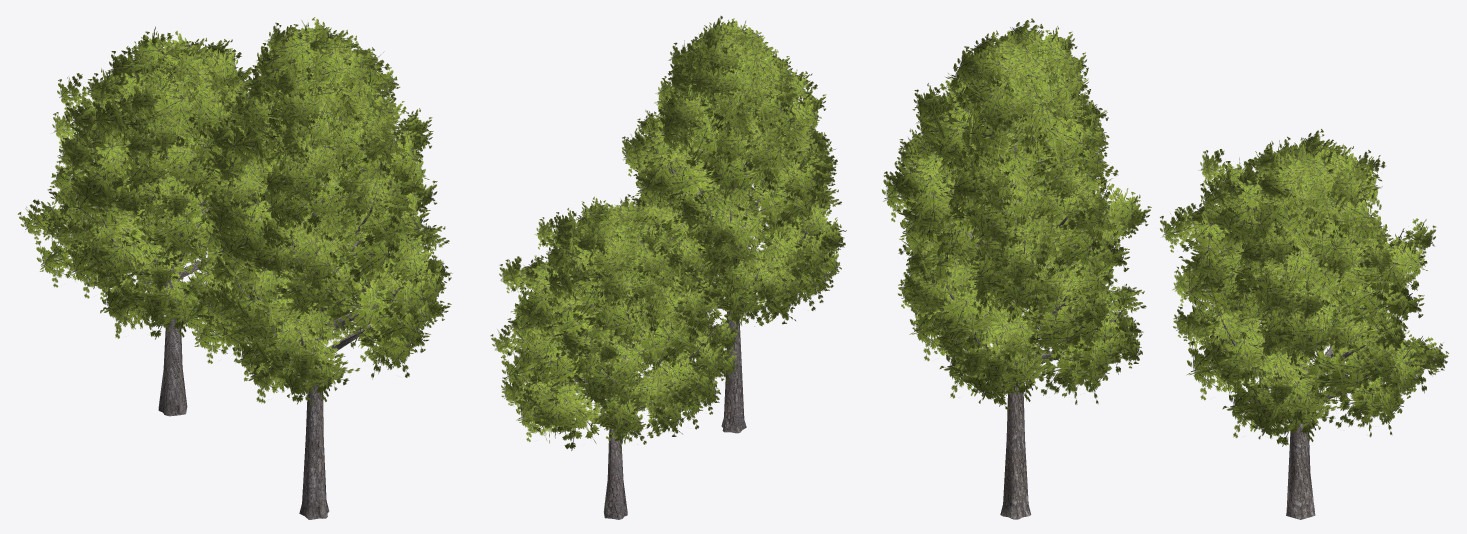
The model's file is trees_low_poly.glb.
3 renders of one model, left to right at view 1: azimuth 30°, elevation 25°; view 2: azimuth 150°, elevation 25°; view 3: azimuth 270°, elevation 25°, orthographic. The views are drawn at different scales.
Visible parts, largest first — view 1: tree4, tree6; view 2: tree4, tree6; view 3: tree4, tree6.
Boxes of the visible parts, box(x1,y1,x2,y2) form: tree4: box(177, 17, 452, 519); tree6: box(17, 26, 311, 416); tree4: box(622, 16, 846, 433); tree6: box(490, 194, 737, 519); tree4: box(882, 18, 1151, 519); tree6: box(1160, 129, 1448, 519).
Bounding box in the file's own units: 580 × 1036 × 1100.
Materials: 2 (2 with a texture image).
